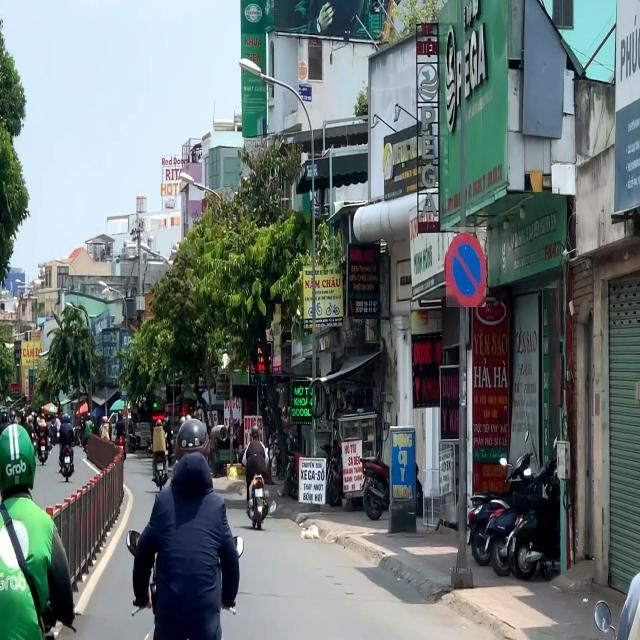bien_cam: (446, 227, 486, 307)
